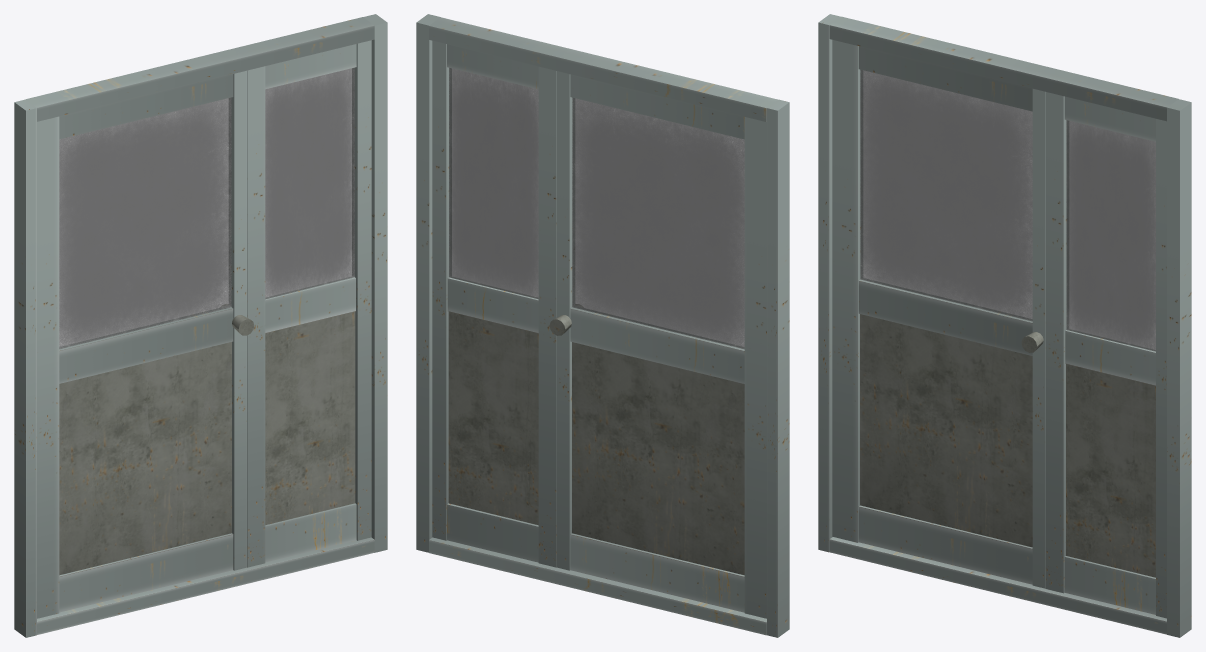
File: bil_door1t.fbx
3 renders of one model, left to right at view 1: azimuth 30°, elevation 25°; view 2: azimuth 150°, elevation 25°; view 3: azimuth 330°, elevation 25°, orthographic.
Parts seen in each view (by area): view 1: bil_door1t; view 2: bil_door1t; view 3: bil_door1t.
Part boxes in pixels (<box>): bil_door1t: <box>14,14,387,637</box>; bil_door1t: <box>416,14,789,637</box>; bil_door1t: <box>818,14,1191,637</box>.
Size of the model in its own units: 190 by 265 by 19.38.
